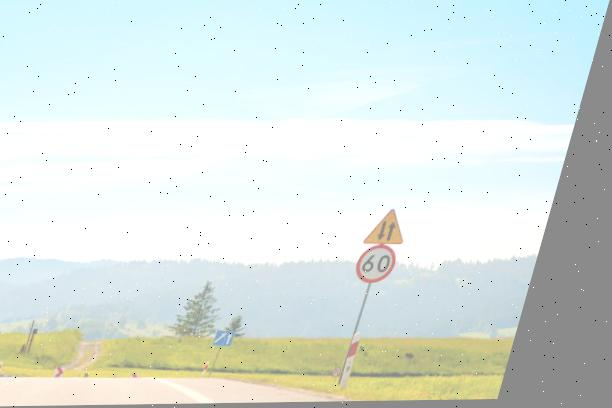Speed Limit -60-: (364, 244, 417, 285)
